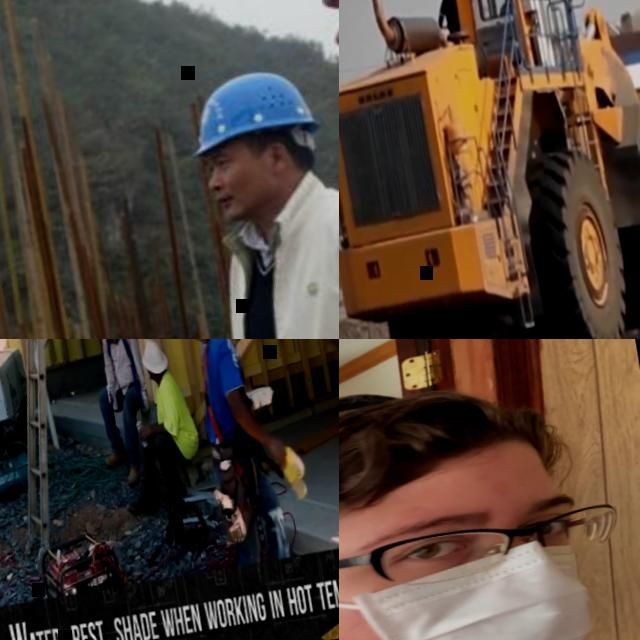Hardhat: (179, 65, 322, 158), (137, 339, 169, 378)
Mask: (339, 534, 604, 640)
NO-Hardhat: (339, 370, 565, 560)
NO-Mask: (212, 175, 282, 224), (148, 373, 155, 381)
NO-Safety Vest: (217, 198, 339, 339), (191, 339, 250, 449), (153, 379, 193, 441), (102, 339, 139, 390)
Person: (339, 348, 640, 640), (180, 50, 339, 339), (179, 339, 301, 565), (98, 339, 215, 551), (77, 339, 162, 491), (495, 0, 514, 16)
machinery: (339, 0, 640, 339)
